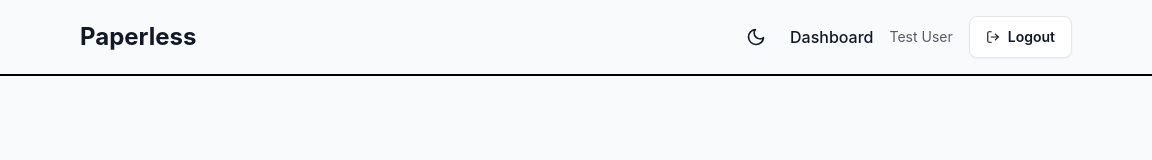
Navbar Component › prevents duplicate logout requests while in progress
This screenshot has width=1152, height=160.
Click the button "Logout".
click(1020, 37)  # box [969,16,1072,58]
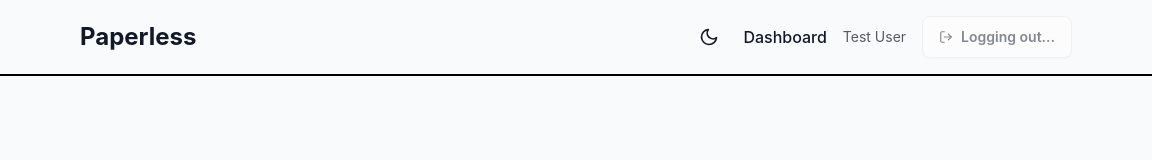
Click the button named "logout".
click(997, 37)  # box [922,16,1072,58]
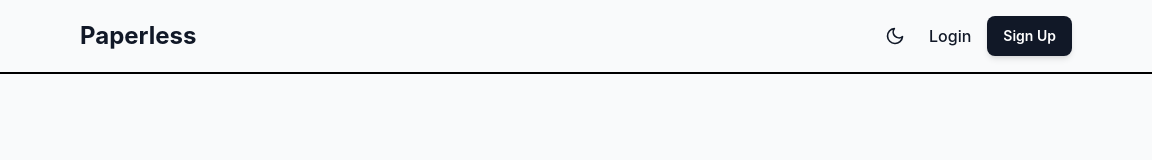
Expected: the link "Login" is shown, [929,24,971,48]
